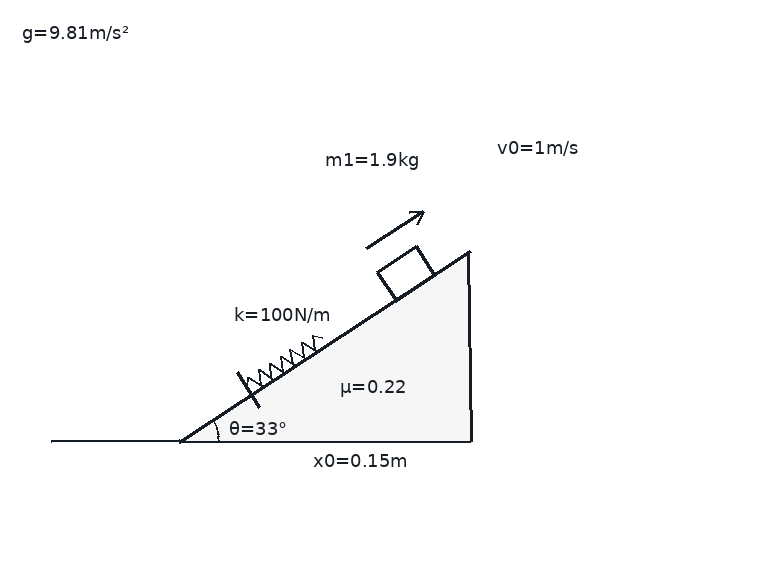block: (375, 245, 437, 302)
ramp: (177, 251, 471, 443)
spring: (245, 333, 324, 388)
